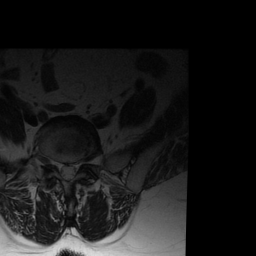CCS_normal: (64, 155, 71, 187)
LFS_stenosis: (78, 148, 86, 172)
LLS_normal: (71, 155, 78, 181)
RFS_stenosis: (50, 150, 57, 173)
RLS_normal: (57, 154, 64, 184)
